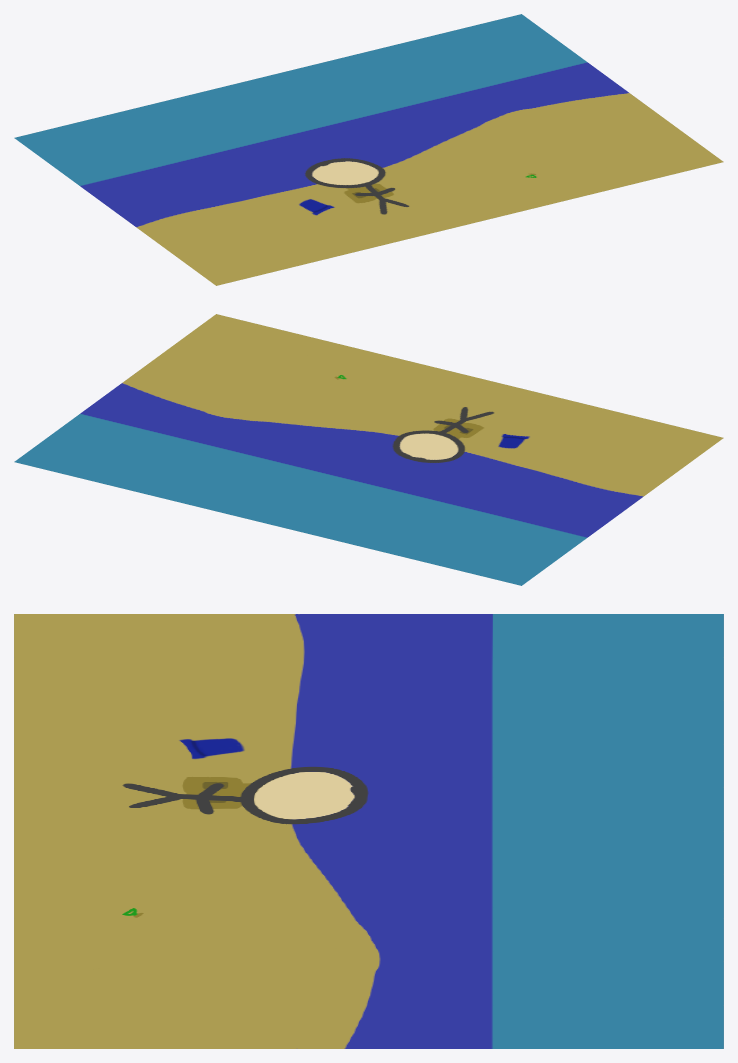
The model's file is SummerAnim12.fbx.
3 views of the same model, one above another, from view 1: azimuth 30°, elevation 25°; view 2: azimuth 150°, elevation 25°; view 3: azimuth 270°, elevation 25° (orthographic). The views are drawn at different scales.
Visible parts, largest first — view 1: pPlane1; view 2: pPlane1; view 3: pPlane1.
Part boxes in pixels (x1=…): pPlane1: x1=14, y1=14, x2=723, y2=285; pPlane1: x1=14, y1=314, x2=723, y2=585; pPlane1: x1=14, y1=614, x2=723, y2=1048.
Size of the model in its own units: 7.78 by 5.08e-16 by 5.37.
1 material, 1 textured.
